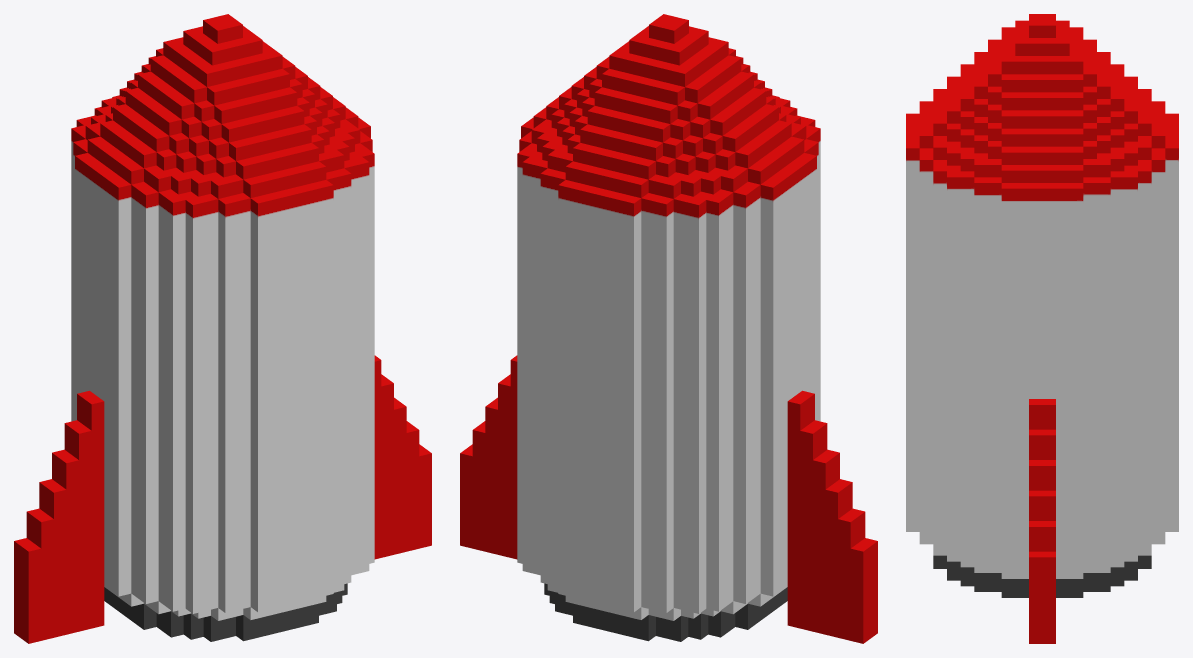
Rendered from missile.fbx.
3 renders of one model, left to right at view 1: azimuth 30°, elevation 25°; view 2: azimuth 150°, elevation 25°; view 3: azimuth 270°, elevation 25°, orthographic. The views are drawn at different scales.
Visible parts, largest first — view 1: missile; view 2: missile; view 3: missile.
Part boxes in pixels (<box>): missile: <box>14,14,431,643</box>; missile: <box>460,14,877,643</box>; missile: <box>906,14,1178,643</box>.
Size of the model in its own units: 320 by 430 by 200.
Materials: 1 (1 with a texture image).
